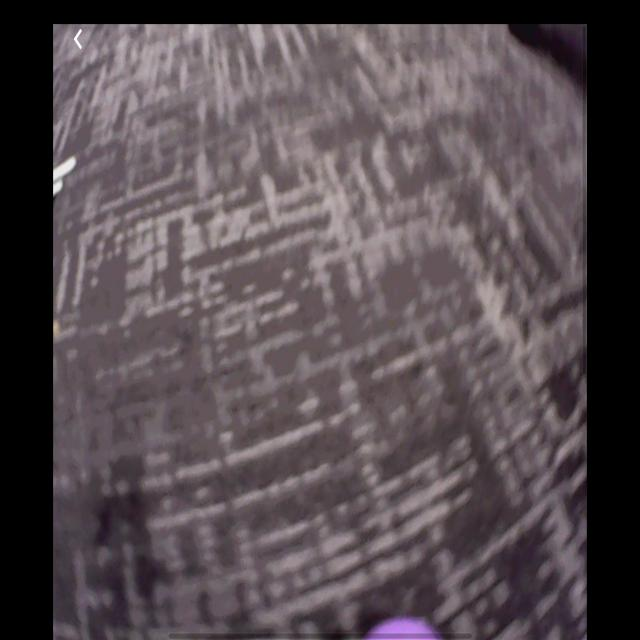ball: (370, 614, 440, 640)
